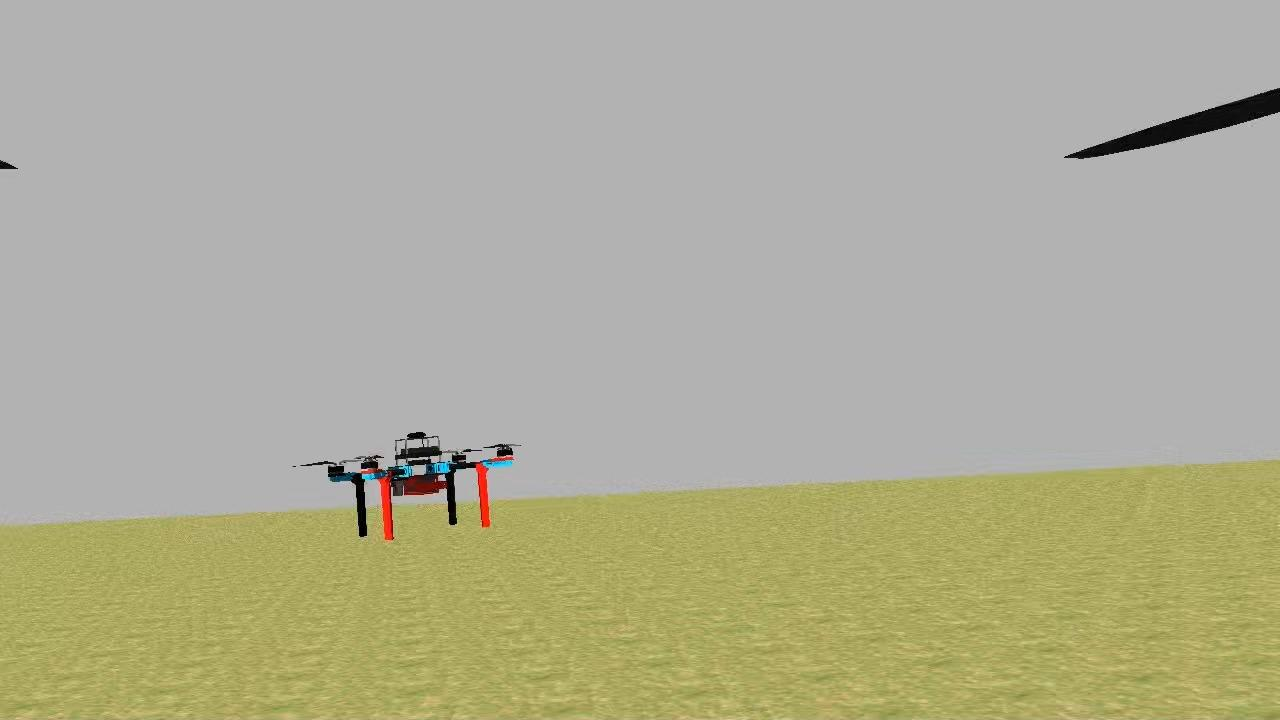UAV: (320, 428, 524, 544)
